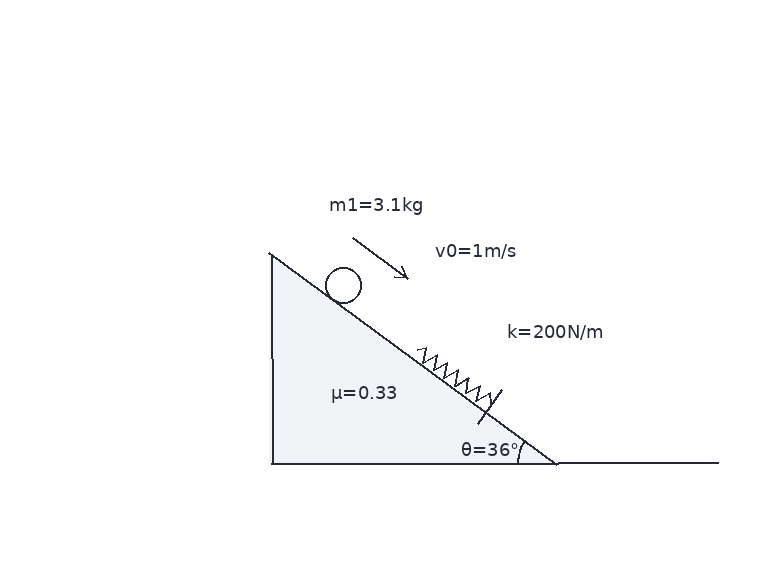ball: (323, 265, 363, 305)
ramp: (268, 252, 560, 465)
spring: (414, 345, 493, 405)
